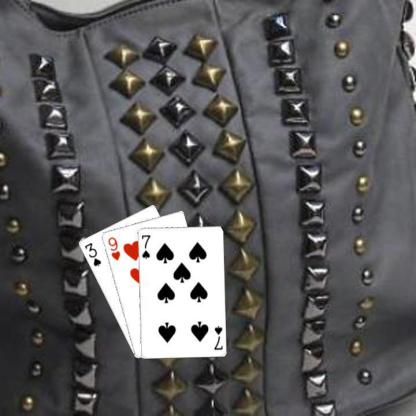3S: (82, 240, 102, 268)
7S: (139, 232, 151, 260), (212, 323, 223, 351)
9H: (105, 234, 121, 262)
